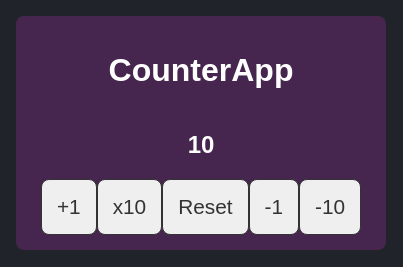
Scenario: File: <Counter> › #3 Test: ( must increment in 1 unity with the button ´+1´ )
Click the button "+1" at point(69, 207), box [41, 179, 97, 235]
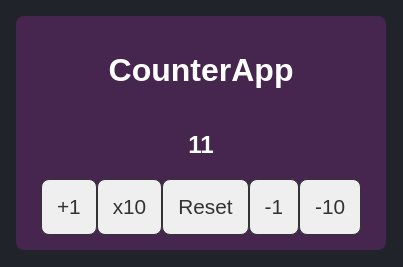
Expected: the heading "11" is shown, [188, 131, 214, 159]
